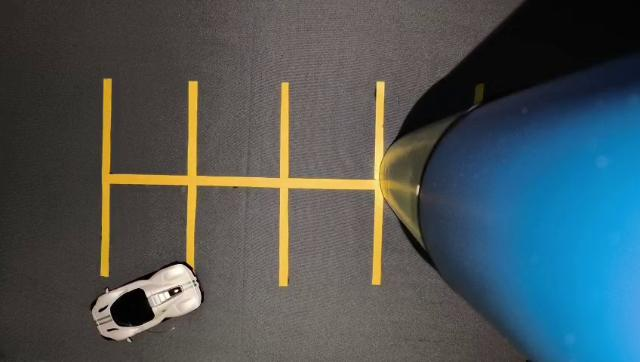toy_car: (74, 243, 239, 362)
